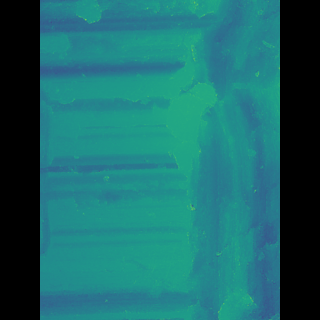Loch: (160, 0, 251, 320), (70, 49, 189, 105), (69, 74, 98, 282), (69, 29, 94, 63), (97, 0, 116, 25)
